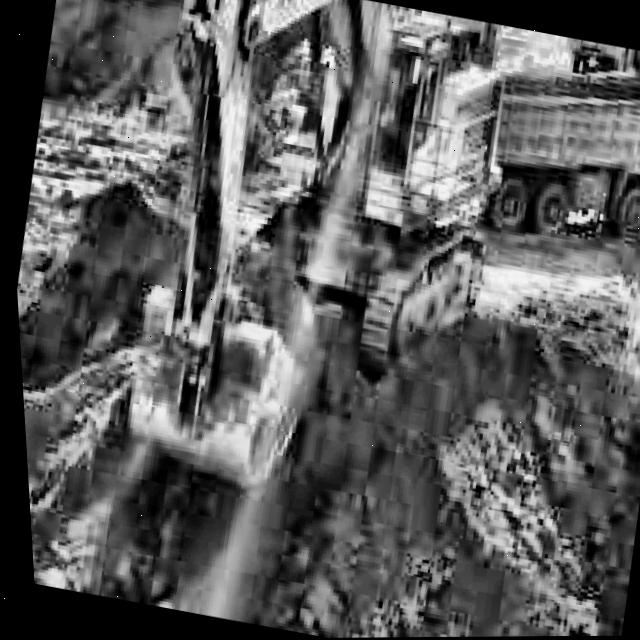dump_truck: (456, 25, 640, 287), (428, 13, 505, 55)
excavator: (65, 0, 536, 535)
